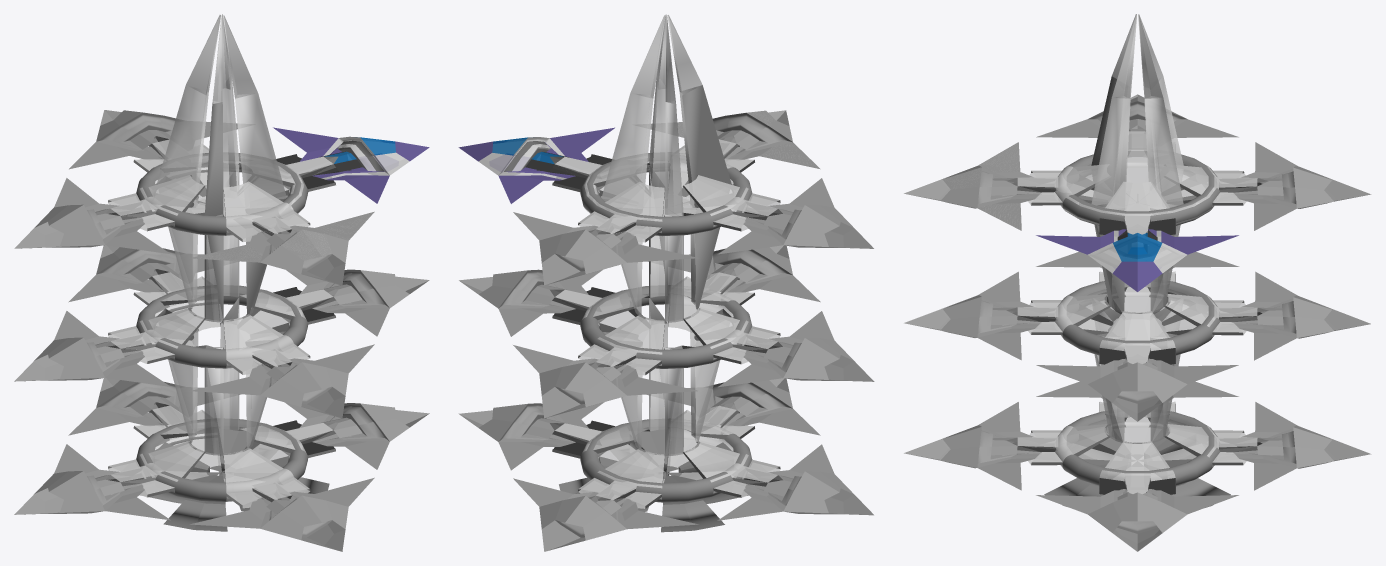
File: vrSpaceHub_v5.fbx
3 renders of one model, left to right at view 1: azimuth 30°, elevation 25°; view 2: azimuth 150°, elevation 25°; view 3: azimuth 270°, elevation 25°, orthographic. The views are drawn at different scales.
Parts seen in each view (by area): view 1: polySurface89, polySurface48, polySurface53, polySurface43, polySurface45, polySurface42, polySurface50, polySurface52, polySurface51, polySurface41, polySurface20, polySurface47 (+1 smaller); view 2: polySurface89, polySurface51, polySurface46, polySurface41, polySurface45, polySurface42, polySurface50, polySurface52, polySurface43, polySurface20, polySurface47, polySurface53 (+1 smaller); view 3: polySurface89, polySurface52, polySurface20, polySurface47, polySurface43, polySurface41, polySurface46, polySurface53, polySurface48, polySurface51, polySurface50, polySurface42 (+1 smaller).
Boxes of the visible parts, <box> form: polySurface89: <box>108,14,335,531</box>; polySurface48: <box>190,344,374,418</box>; polySurface53: <box>190,211,374,285</box>; polySurface43: <box>190,477,374,551</box>; polySurface45: <box>14,311,170,386</box>; polySurface42: <box>14,444,170,520</box>; polySurface50: <box>14,178,170,254</box>; polySurface52: <box>273,127,429,203</box>; polySurface51: <box>69,110,251,169</box>; polySurface41: <box>68,378,240,435</box>; polySurface20: <box>285,402,429,469</box>; polySurface47: <box>286,269,429,336</box>; polySurface89: <box>552,14,780,532</box>; polySurface51: <box>513,212,698,285</box>; polySurface46: <box>513,345,697,418</box>; polySurface41: <box>513,478,698,551</box>; polySurface45: <box>718,311,874,387</box>; polySurface42: <box>717,444,873,520</box>; polySurface50: <box>717,178,873,254</box>; polySurface52: <box>458,127,614,203</box>; polySurface43: <box>646,378,820,435</box>; polySurface20: <box>458,402,604,470</box>; polySurface47: <box>459,269,602,336</box>; polySurface53: <box>637,110,820,169</box>; polySurface89: <box>1012,14,1262,507</box>; polySurface52: <box>1036,229,1238,291</box>; polySurface20: <box>1036,489,1238,551</box>; polySurface47: <box>1036,358,1238,421</box>; polySurface43: <box>904,402,1041,490</box>; polySurface41: <box>1233,402,1371,490</box>; polySurface46: <box>1233,271,1370,360</box>; polySurface53: <box>904,142,1041,230</box>; polySurface48: <box>904,271,1041,360</box>; polySurface51: <box>1233,142,1371,230</box>; polySurface50: <box>1036,94,1238,138</box>; polySurface42: <box>1036,381,1238,399</box>.
Bounding box in the file's own units: 399 × 450 × 398.
